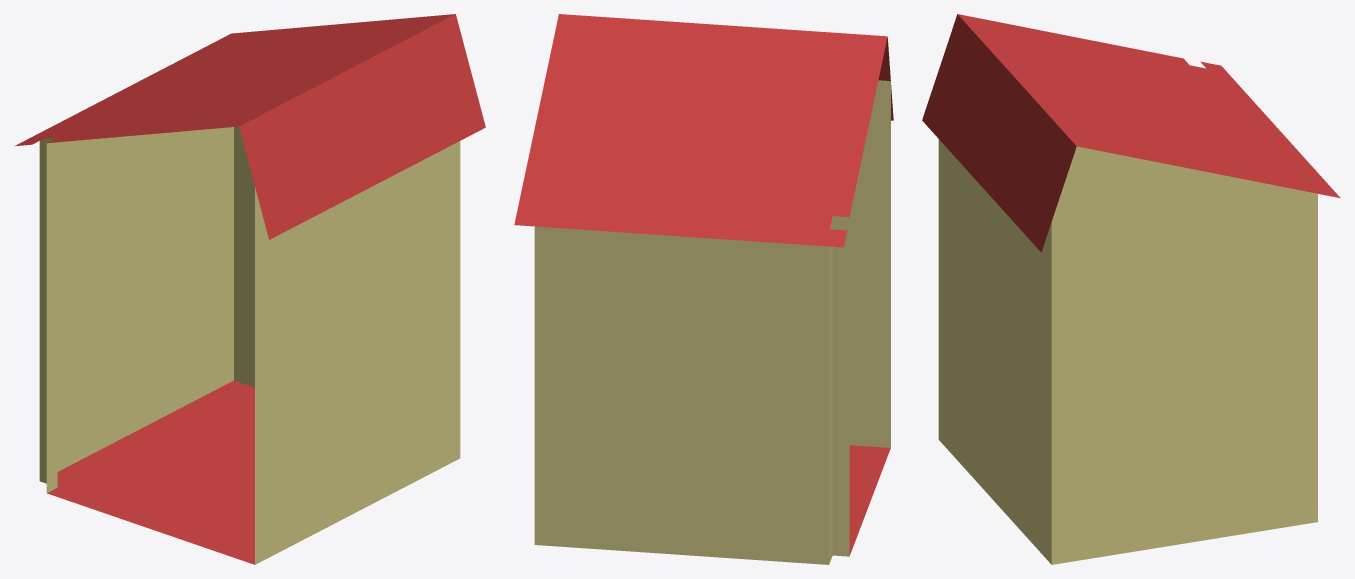
The picture shows the model from 3 angles, left to right: view 1: azimuth 30°, elevation 25°; view 2: azimuth 150°, elevation 25°; view 3: azimuth 270°, elevation 25°; orthographic projection. The views are drawn at different scales.
Size of the model in its own units: 12.03 by 11.77 by 13.11.
